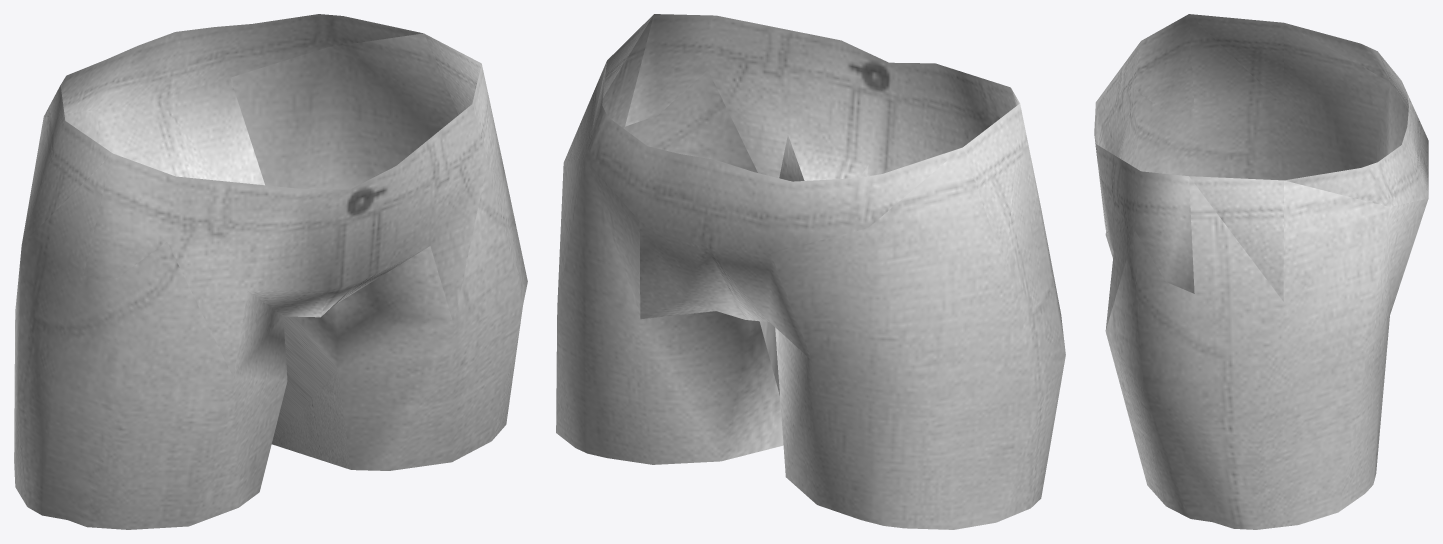
File: Shorts.glb
3 views of the same model, side by side, from view 1: azimuth 30°, elevation 25°; view 2: azimuth 150°, elevation 25°; view 3: azimuth 270°, elevation 25° (orthographic). The views are drawn at different scales.
Parts seen in each view (by area): view 1: Shorts; view 2: Shorts; view 3: Shorts.
Boxes of the visible parts, x1,y1,x2,y2 form: Shorts: (14, 14, 527, 529); Shorts: (556, 14, 1065, 529); Shorts: (1094, 14, 1428, 529).
Size of the model in its own units: 6.82 by 5 by 4.56.
Materials: 1 (1 with a texture image).
